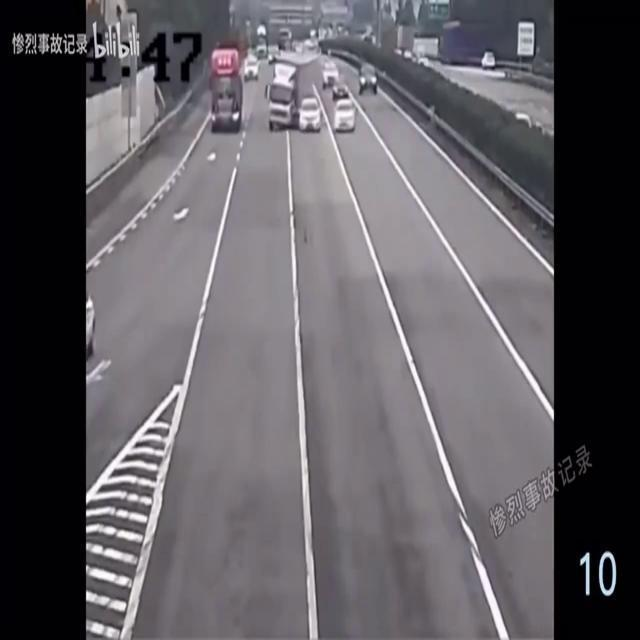accident: (266, 50, 322, 134)
non-accident: (211, 47, 259, 133), (322, 61, 356, 133)
